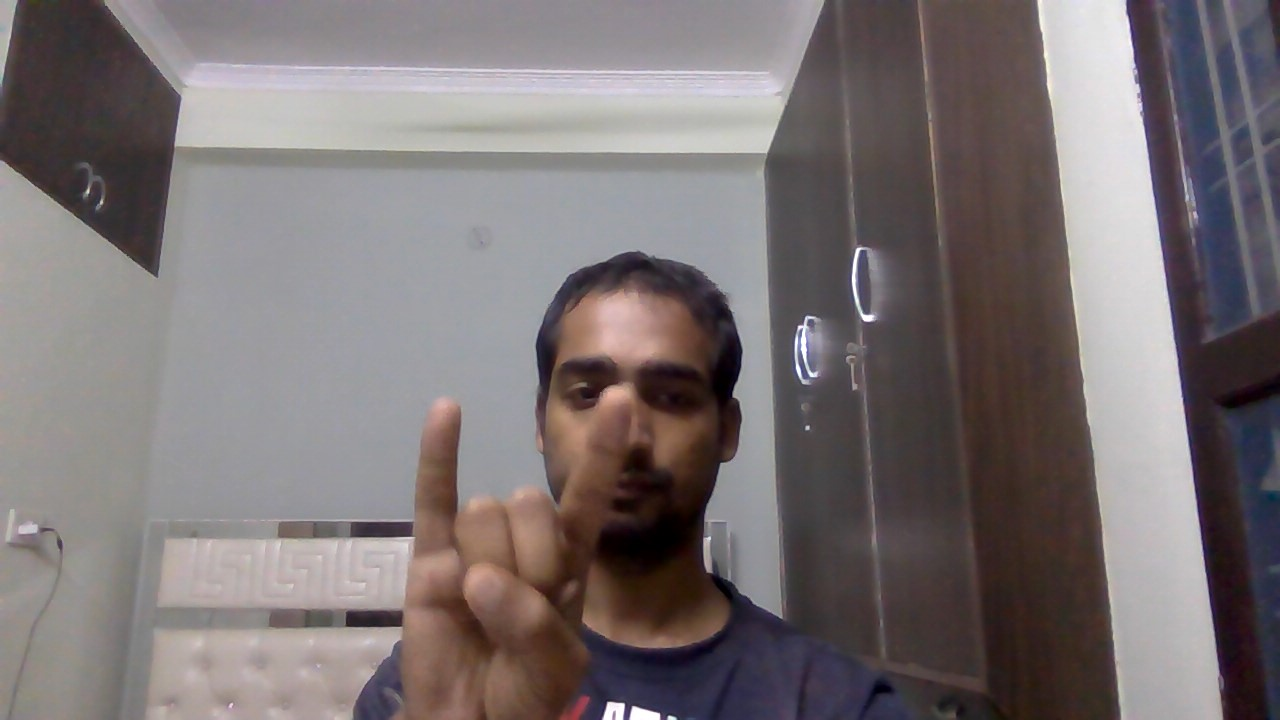Select All: (385, 373, 647, 720)
